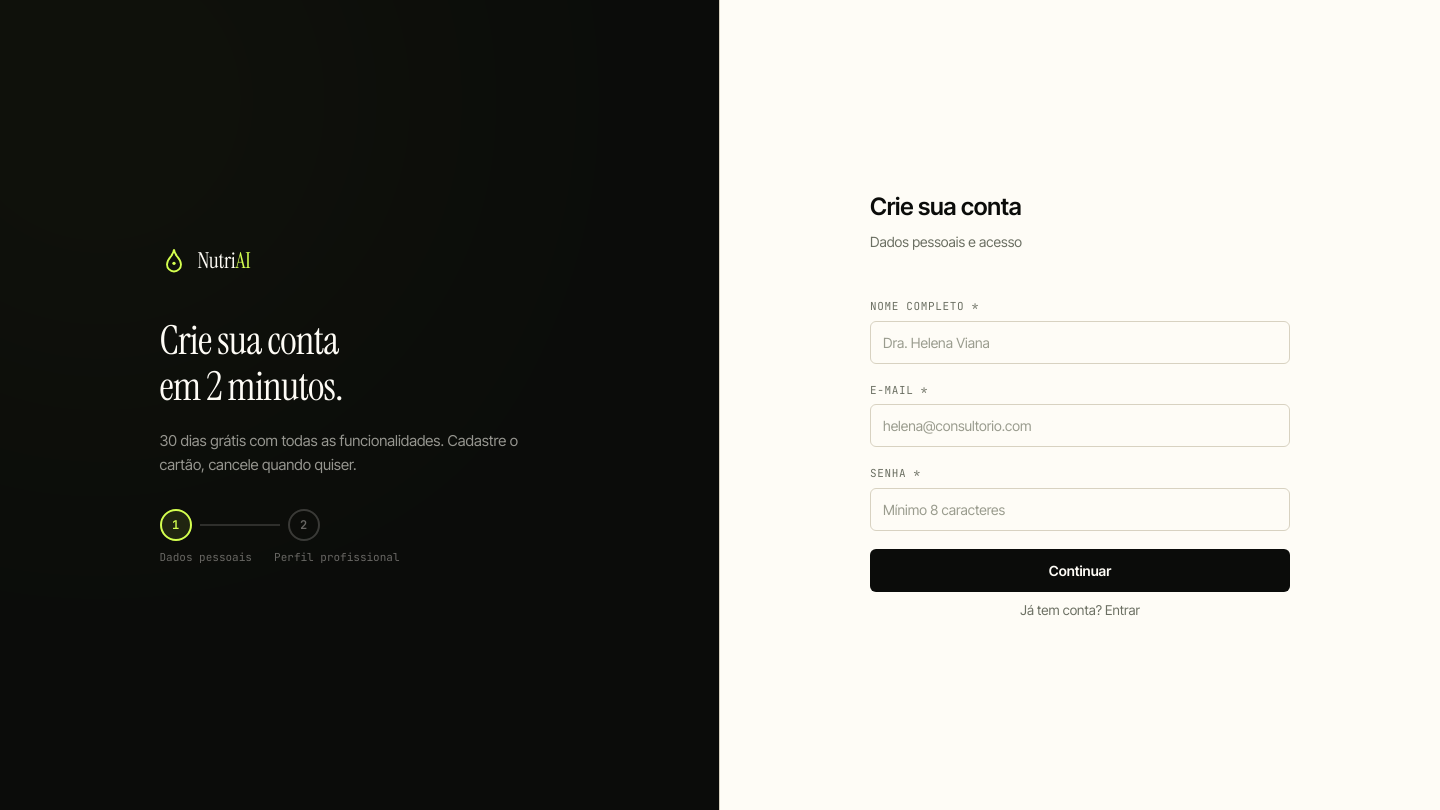
Test: SignupView › Step navigation › advances to step 2 when step 1 fields are filled
Type "Dra. Helena" into the field with test id "signup-name".
click(1080, 342); type("Dra. Helena")  # box [870,321,1290,364]
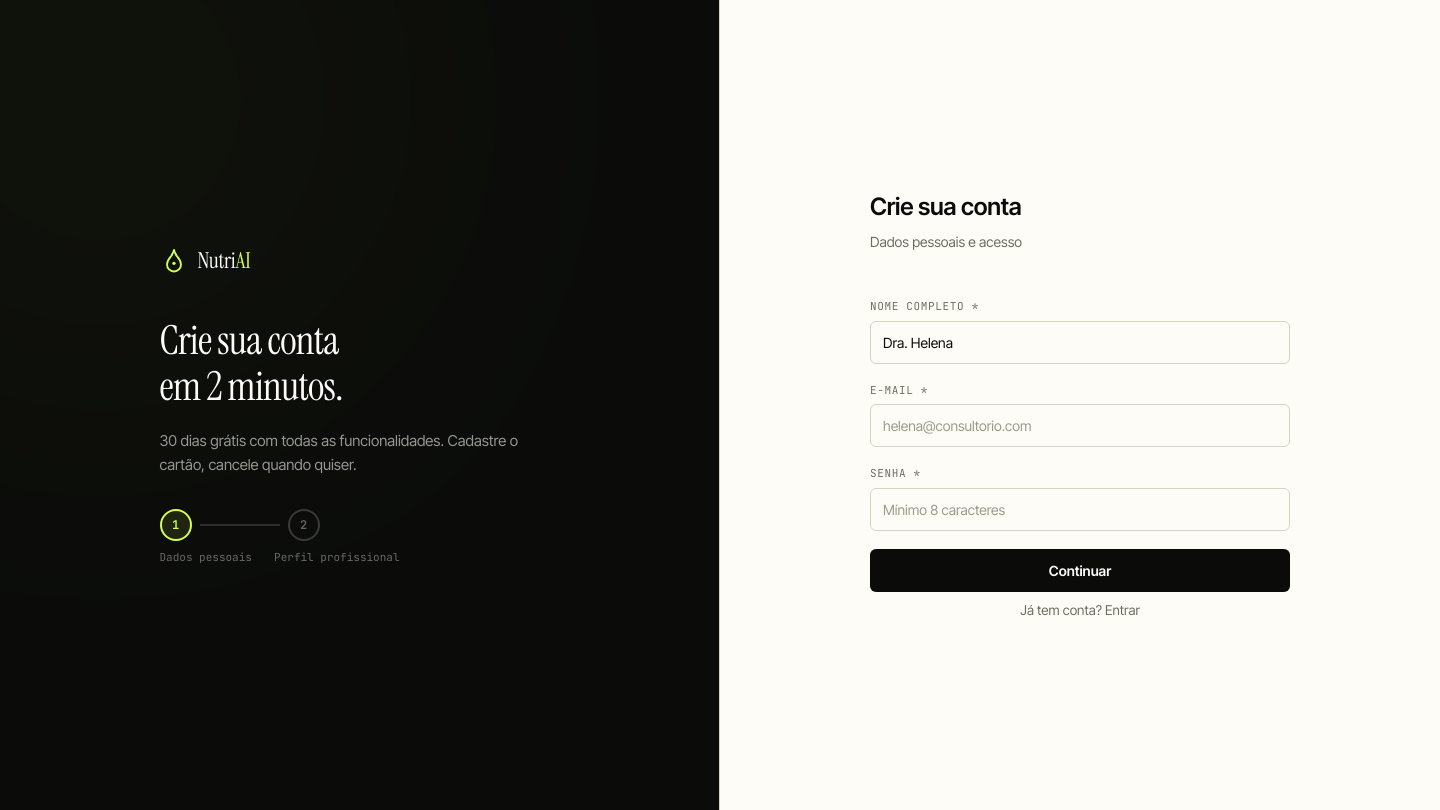
Type "helena@test.com" into the field with test id "signup-email".
click(1080, 426); type("helena@test.com")  # box [870,404,1290,447]
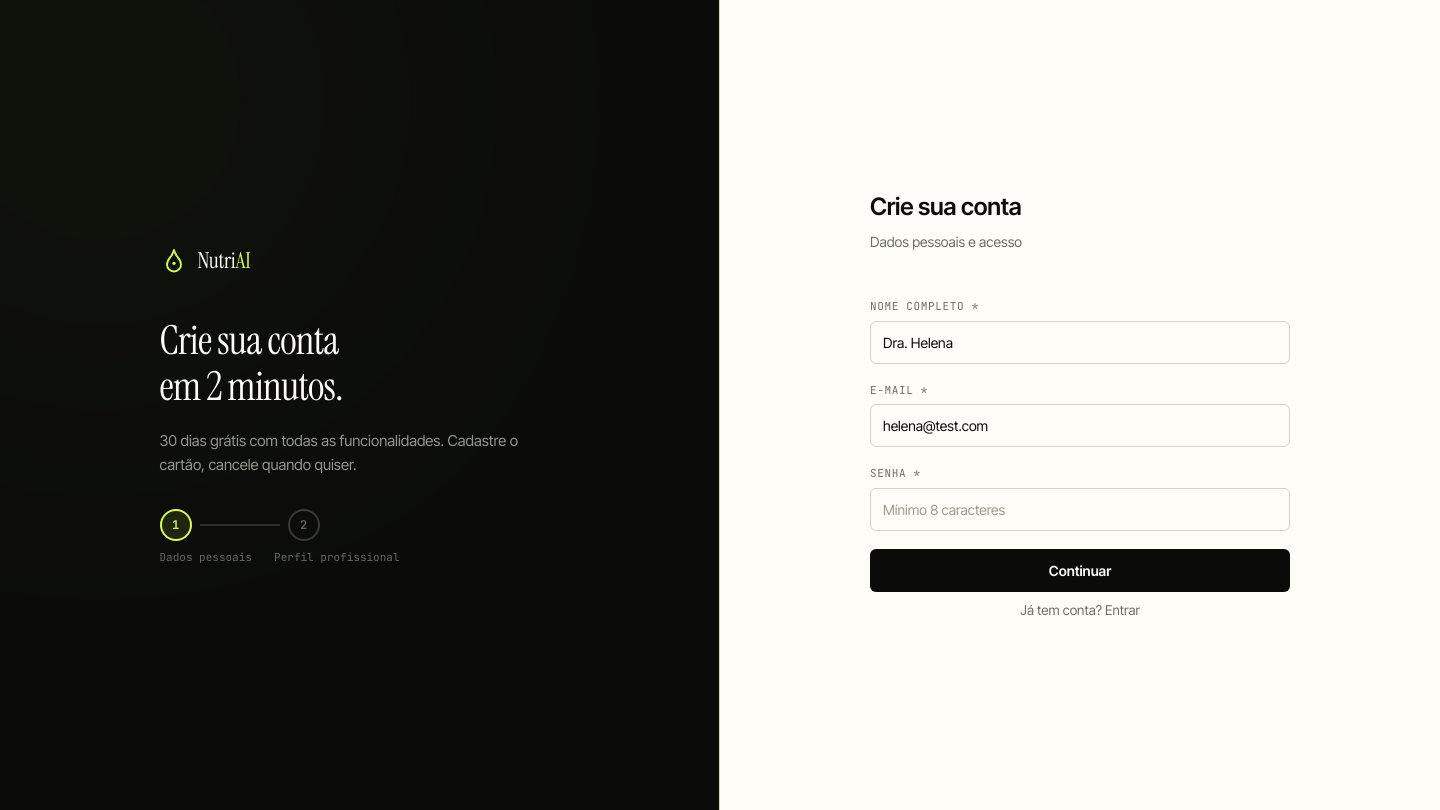
Type "Senha123!" into the password field with test id "signup-password".
click(1080, 509); type("Senha123!")  # box [870,488,1290,531]
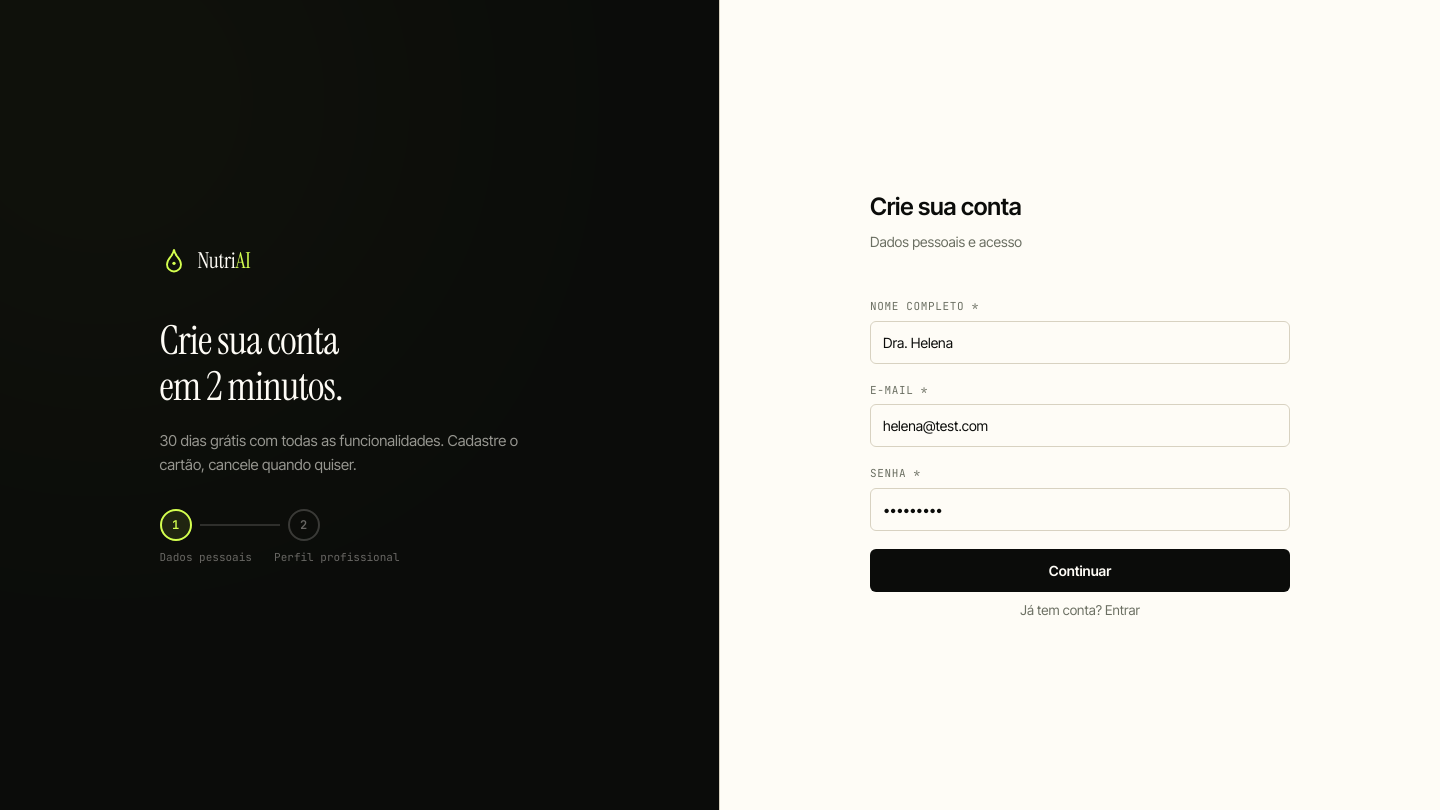
Submit the form named "continuar", box [870,189,1290,592]
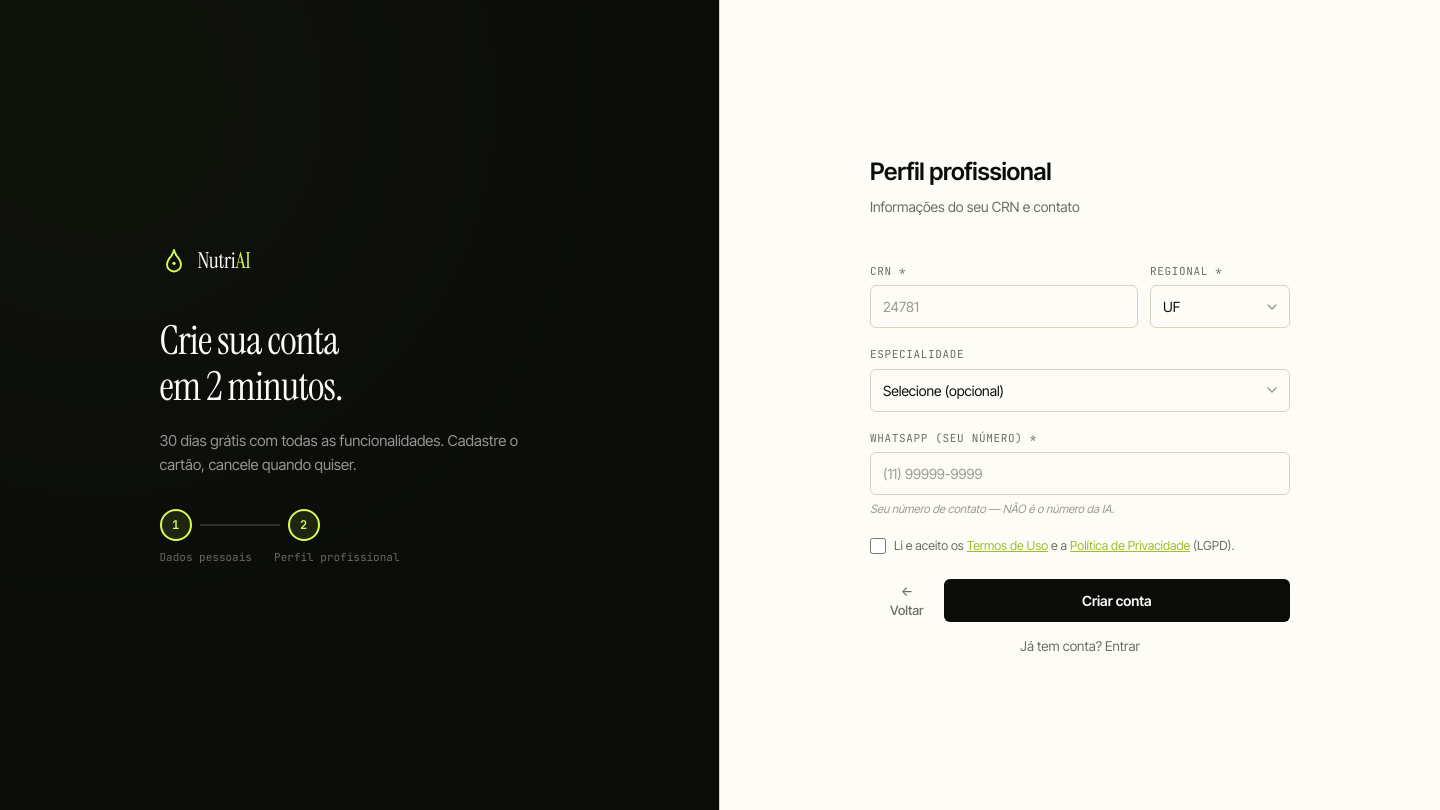
Expected: the field with test id "signup-crn" is shown, [870,285,1138,328]
Expected: the dropdown with test id "signup-crn-regional" is shown, [1150,285,1290,328]
Expected: the checkbox with test id "signup-terms" is shown, [870,538,886,554]
